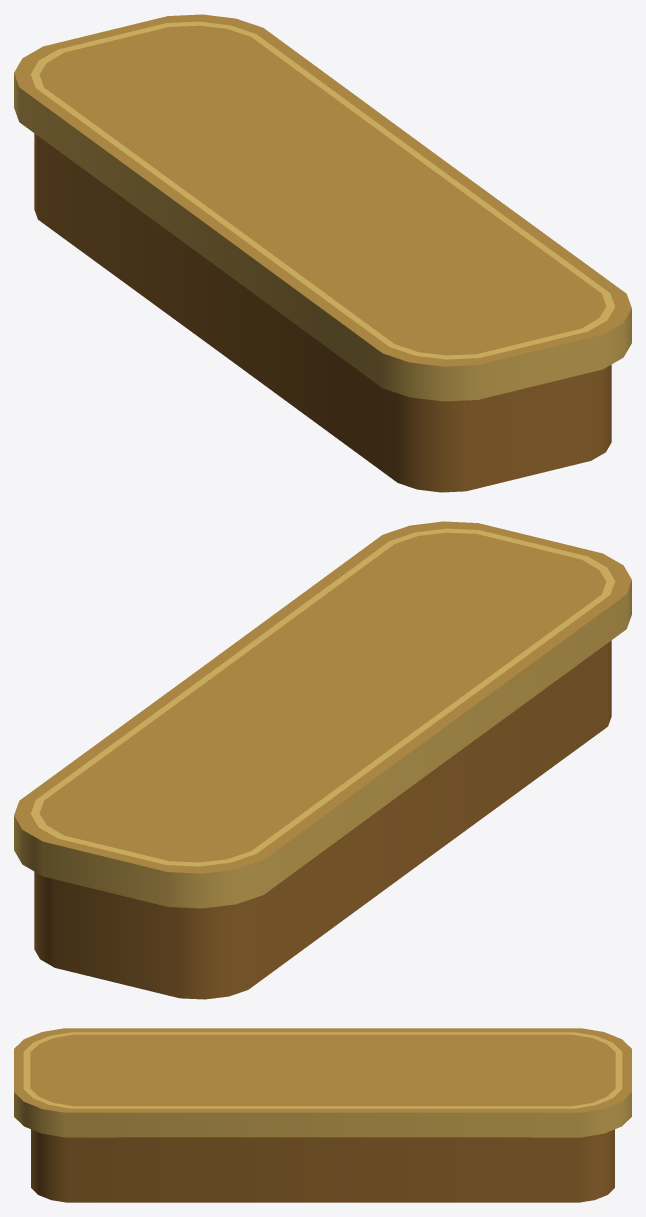
The model's file is NF_Floor_Desk.fbx.
3 renders of one model, top to bottom at view 1: azimuth 30°, elevation 25°; view 2: azimuth 150°, elevation 25°; view 3: azimuth 270°, elevation 25°, orthographic. The views are drawn at different scales.
Visible parts, largest first — view 1: NF_Floor_Desk; view 2: NF_Floor_Desk; view 3: NF_Floor_Desk.
Boxes of the visible parts, x1=… form: NF_Floor_Desk: x1=14, y1=14, x2=631, y2=492; NF_Floor_Desk: x1=14, y1=521, x2=631, y2=999; NF_Floor_Desk: x1=14, y1=1028, x2=631, y2=1202.
Bounding box in the file's own units: 1.1 × 0.5816 × 3.4.
